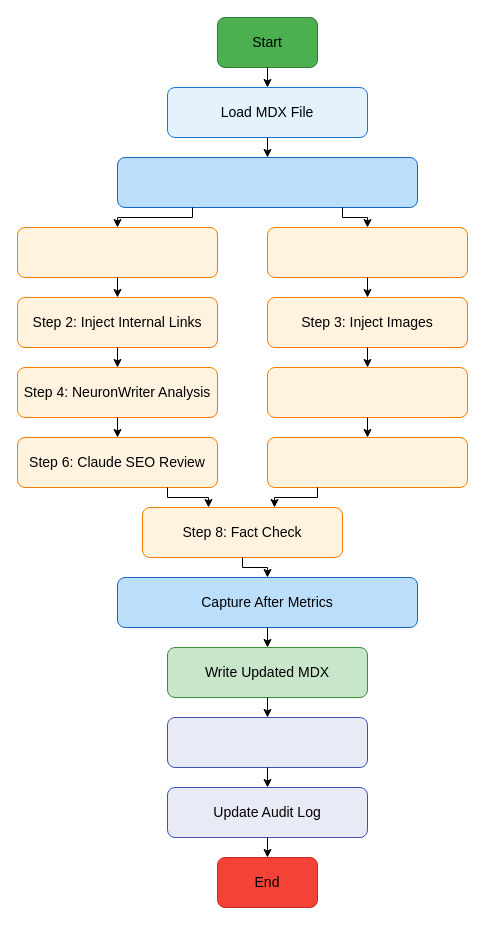
Some shapes in this 485 by 925 pixel diagram are drawn without their labels. The shapes that lost their labels are listed below. From the top down, each one's box as (x1, y1, x2, y2) in pixels, then its label:
(116, 156, 418, 208): Capture Before Metrics
(16, 226, 218, 278): Step 0: Keyword Research
(266, 226, 468, 278): Step 1: Fix Frontmatter
(266, 366, 468, 418): Step 5: Gemini Content Audit
(266, 436, 468, 488): Step 7: Schema Validation
(166, 716, 368, 768): Log Run (Self-Learning)
